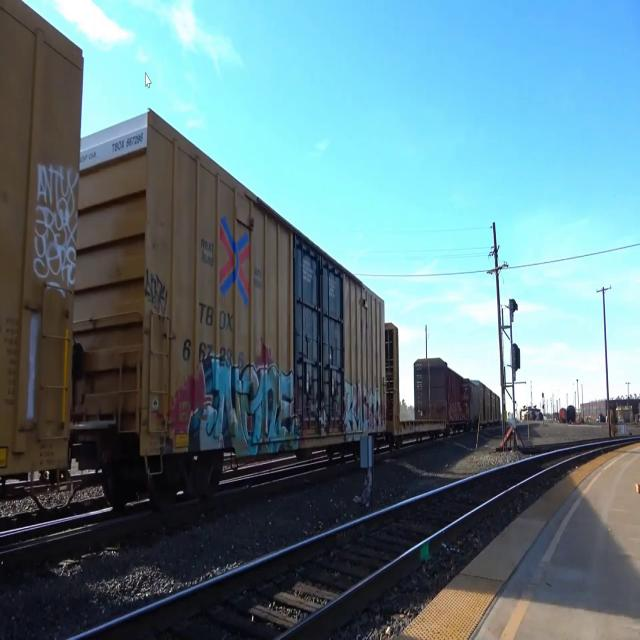boxcar: (76, 97, 390, 510)
flatcar_bulkhead: (386, 318, 447, 449)
